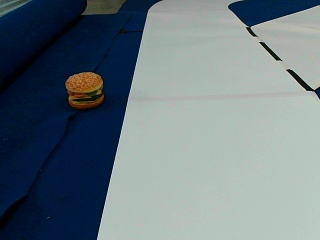burger: (65, 72, 104, 107)
